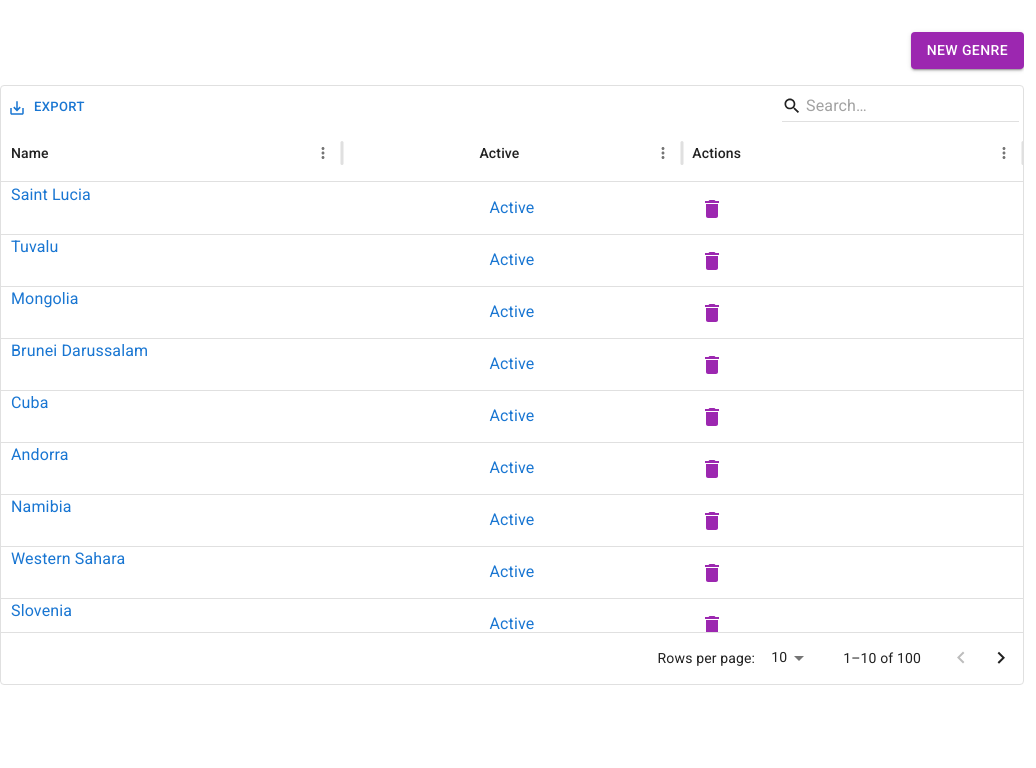
Test: Test ListGenre page › should handle on page change
Expected: the text "Saint Lucia" is shown, [11, 184, 91, 204]
Click the button with test id "KeyboardArrowRightIcon".
click(1001, 658)  # box [981, 638, 1021, 678]
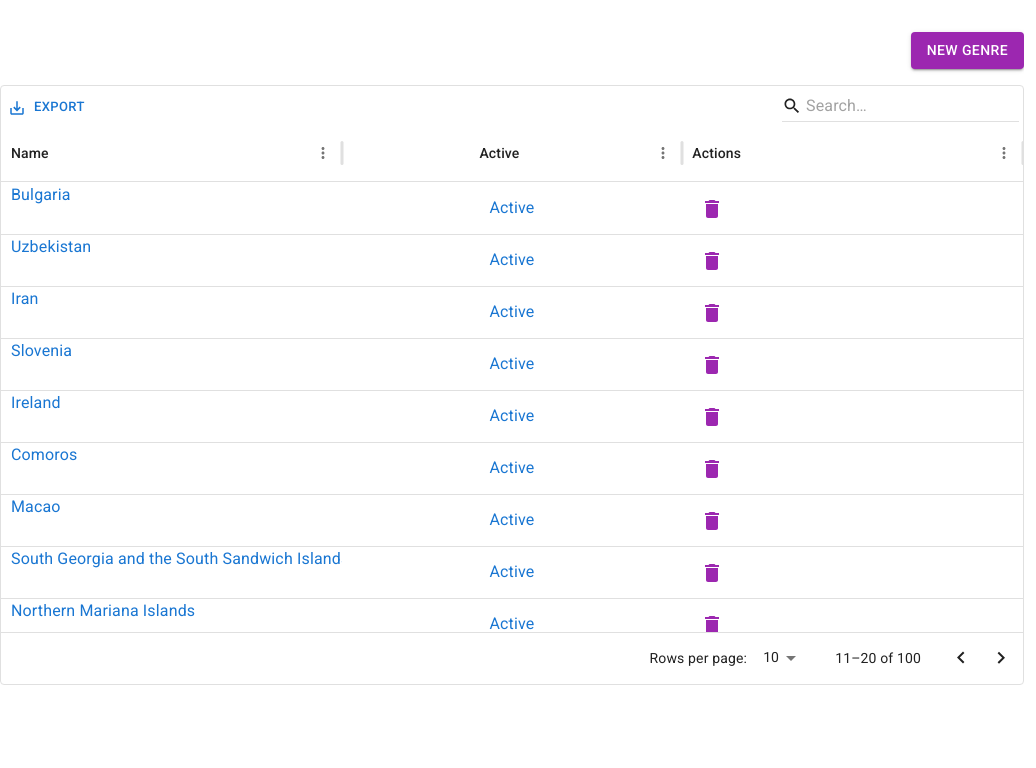
Now the text "Bulgaria" is shown, box [11, 184, 71, 204]
